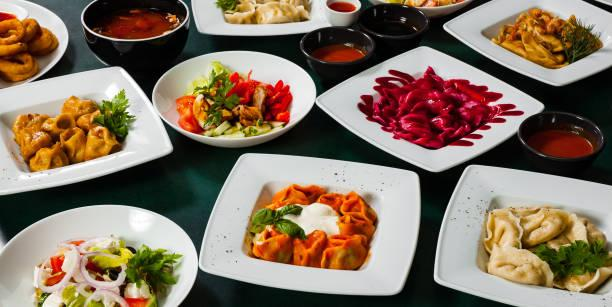Braised Crucian Carp: (197, 152, 413, 297), (315, 45, 541, 175), (432, 163, 609, 306), (1, 65, 174, 197), (0, 204, 196, 306), (151, 49, 307, 147), (448, 0, 612, 85)
